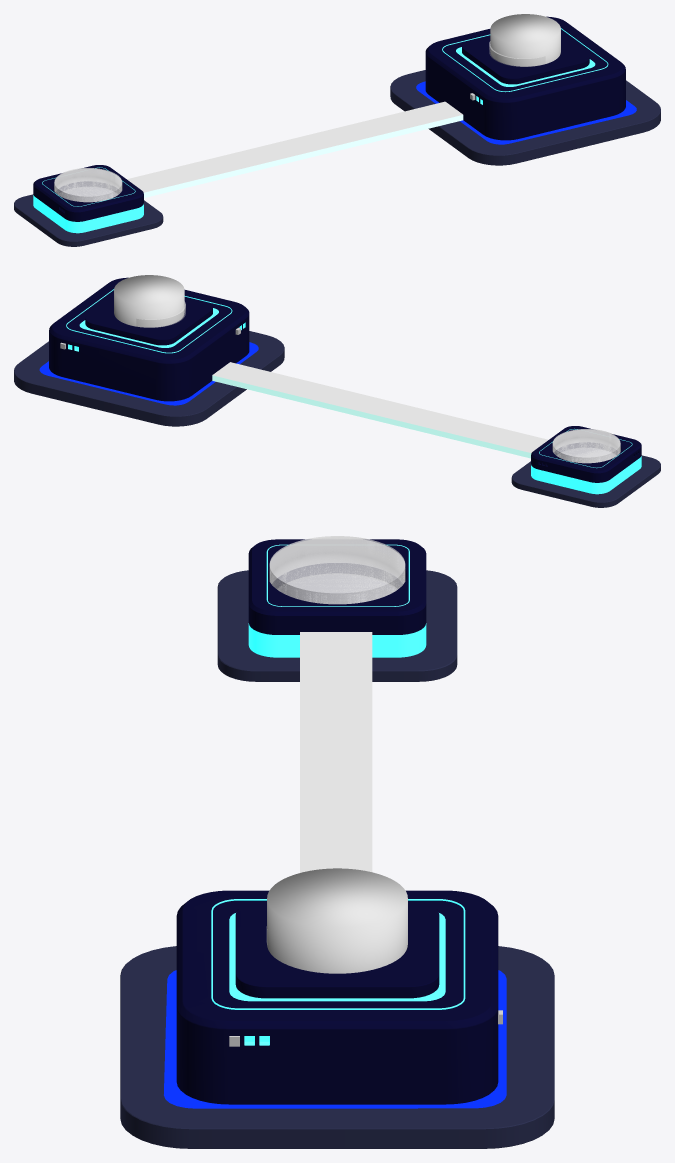
3 renders of one model, top to bottom at view 1: azimuth 30°, elevation 25°; view 2: azimuth 150°, elevation 25°; view 3: azimuth 270°, elevation 25°, orthographic. The views are drawn at different scales.
Visible parts, largest first — view 1: Lit_up_face, Cube.001, Cube, Cylinder.001, Cube.010, Cube.002, Cube.008, Cylinder.003, Cube.012, Cylinder.004, Cube.009, Cube.011 (+3 smaller); view 2: Lit_up_face, Cube.001, Cube, Cylinder.001, Cube.010, Cube.002, Cube.008, Cylinder.003, Cube.012, Cylinder.004, Cube.009, Cube.011 (+3 smaller); view 3: Lit_up_face, Cube.001, Cube, Cylinder.001, Cube.010, Cube.002, Cube.008, Cylinder.003, Cylinder.004, Cube.011, Cube.009, Cube.007 (+1 smaller).
Boxes of the visible parts, x1,y1,x2,y2 form: Lit_up_face: [425, 16, 625, 140]; Cube.001: [390, 70, 660, 165]; Cube: [127, 101, 462, 192]; Cylinder.001: [490, 14, 560, 66]; Cube.010: [33, 165, 143, 221]; Cube.002: [462, 35, 589, 84]; Cube.008: [14, 194, 163, 246]; Cylinder.003: [54, 168, 122, 202]; Cube.012: [143, 115, 463, 197]; Cylinder.004: [54, 169, 121, 201]; Cube.009: [33, 195, 143, 233]; Cube.011: [416, 81, 636, 144]; Lit_up_face: [49, 277, 249, 401]; Cube.001: [14, 331, 284, 426]; Cube: [212, 362, 548, 452]; Cylinder.001: [114, 275, 184, 327]; Cube.010: [531, 426, 641, 482]; Cube.002: [85, 296, 212, 345]; Cube.008: [511, 455, 660, 507]; Cylinder.003: [552, 429, 620, 463]; Cube.012: [212, 375, 531, 458]; Cylinder.004: [553, 430, 620, 462]; Cube.009: [531, 456, 641, 494]; Cube.011: [39, 342, 258, 405]; Lit_up_face: [176, 890, 498, 1104]; Cube.001: [120, 946, 554, 1148]; Cube: [300, 632, 372, 872]; Cylinder.001: [267, 868, 407, 973]; Cube.010: [248, 539, 426, 634]; Cube.002: [235, 901, 439, 998]; Cube.008: [217, 570, 457, 681]; Cylinder.003: [269, 536, 405, 604]; Cylinder.004: [269, 537, 405, 603]; Cube.011: [164, 970, 506, 1108]; Cube.009: [248, 623, 426, 657]; Cube.007: [229, 913, 445, 1001].
Size of what is drawn, in the model's own units: 19.34 by 2.54 by 6.24.
